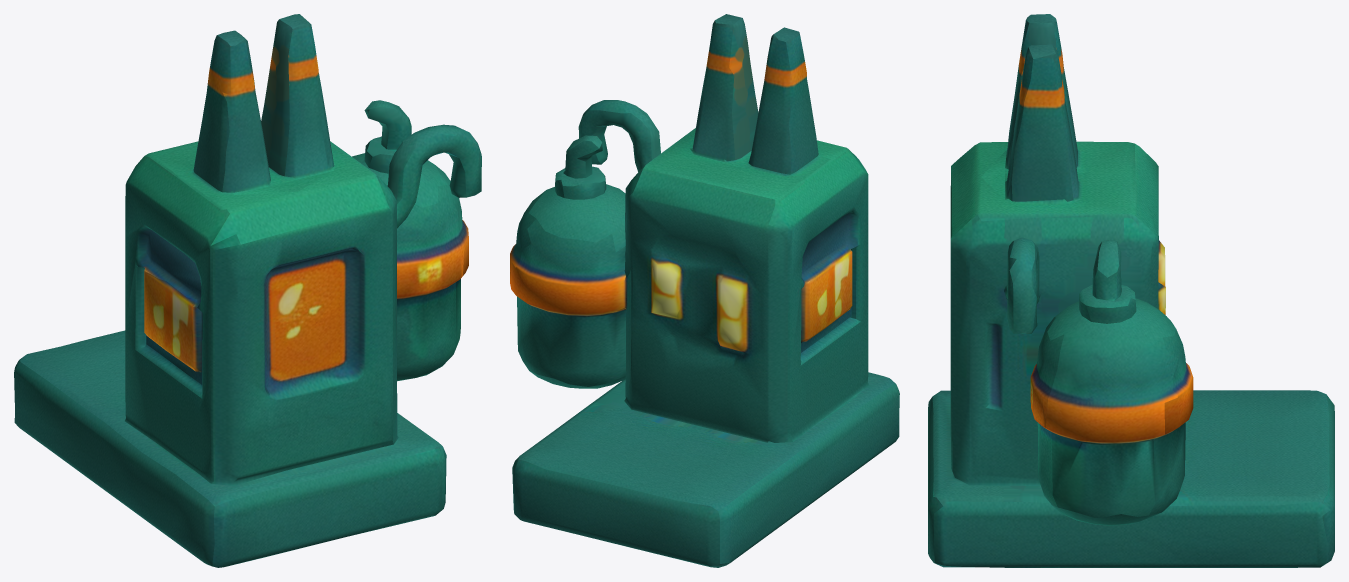
File: Environment 4.3.fbx
The picture shows the model from 3 angles, left to right: view 1: azimuth 30°, elevation 25°; view 2: azimuth 150°, elevation 25°; view 3: azimuth 270°, elevation 25°; orthographic projection. The views are drawn at different scales.
Parts seen in each view (by area): view 1: tmpr8ik3dym.ply; view 2: tmpr8ik3dym.ply; view 3: tmpr8ik3dym.ply.
Boxes of the visible parts, x1,y1,x2,y2 form: tmpr8ik3dym.ply: (14,14,481,567); tmpr8ik3dym.ply: (510,14,899,567); tmpr8ik3dym.ply: (928,14,1334,567).
Bounding box in the file's own units: 147 × 199 × 155.
1 material, 1 textured.
